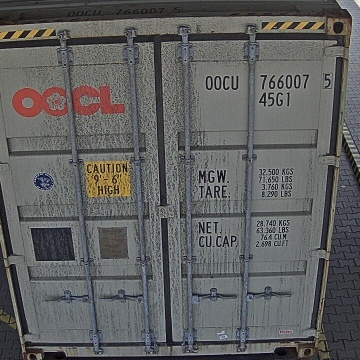serial_id: (206, 73, 332, 89)
